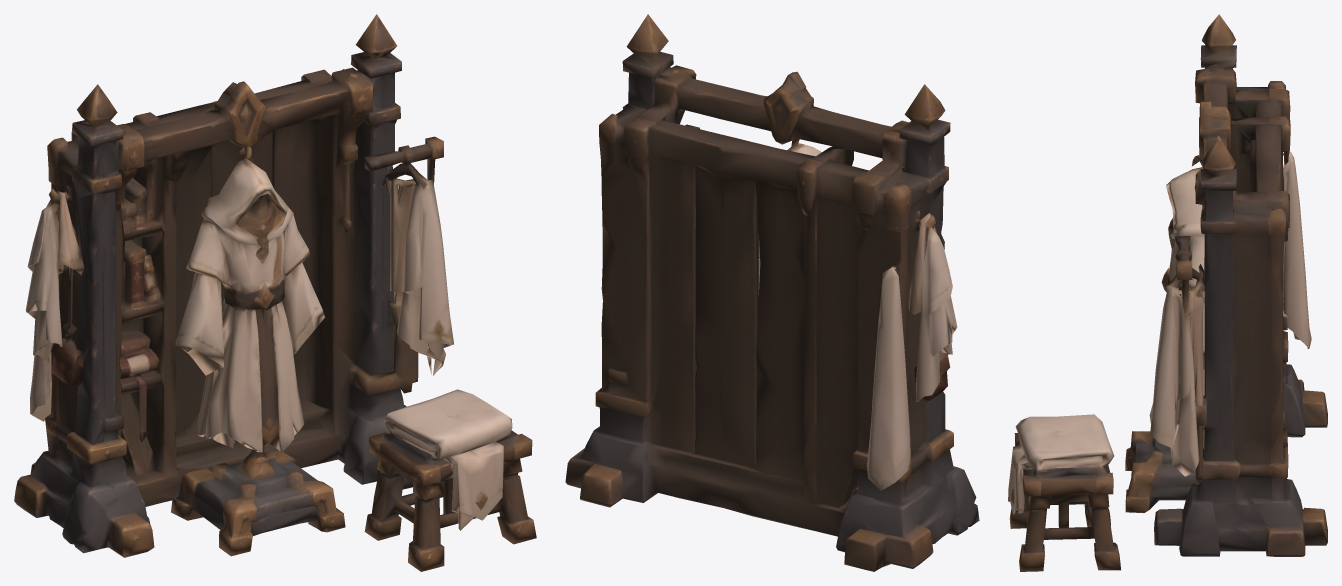
File: hub_wardrobe.glb
The picture shows the model from 3 angles, left to right: view 1: azimuth 30°, elevation 25°; view 2: azimuth 150°, elevation 25°; view 3: azimuth 270°, elevation 25°; orthographic projection. The views are drawn at different scales.
Visible parts, largest first — view 1: tripo_node_3b6703e8-3d6c-4a93-8ca9-bc7c20d5a614; view 2: tripo_node_3b6703e8-3d6c-4a93-8ca9-bc7c20d5a614; view 3: tripo_node_3b6703e8-3d6c-4a93-8ca9-bc7c20d5a614.
Part boxes in pixels (x1,y1,x2,y2): tripo_node_3b6703e8-3d6c-4a93-8ca9-bc7c20d5a614: (14,14,536,571); tripo_node_3b6703e8-3d6c-4a93-8ca9-bc7c20d5a614: (565,14,979,571); tripo_node_3b6703e8-3d6c-4a93-8ca9-bc7c20d5a614: (1008,14,1327,571).
Size of the model in its own units: 0.8681 by 1 by 0.6995.
Materials: 1 (1 with a texture image).
